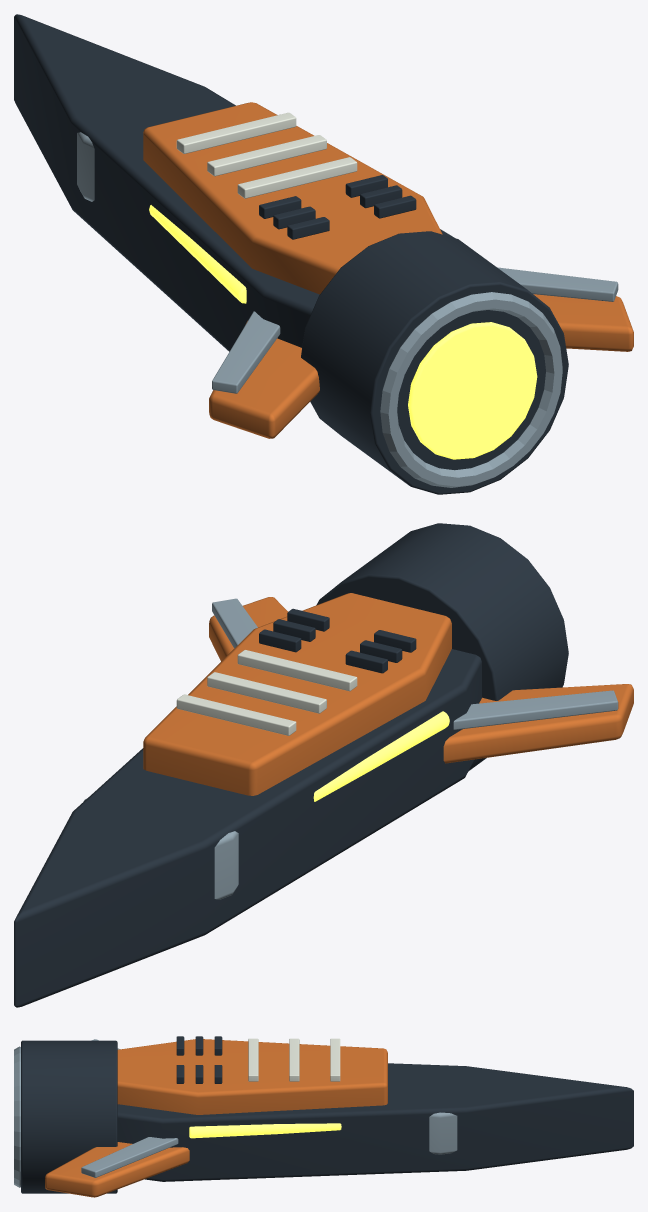
File: kamikaze_agulha.glb
The picture shows the model from 3 angles, top to bottom: view 1: azimuth 30°, elevation 25°; view 2: azimuth 150°, elevation 25°; view 3: azimuth 270°, elevation 25°; orthographic projection. The views are drawn at different scales.
Parts seen in each view (by area): view 1: kamikaze | Graphite chassis, kamikaze | AGULHA | armor, kamikaze | Titanium, kamikaze | AGULHA | energy, kamikaze | Ivory identification; view 2: kamikaze | Graphite chassis, kamikaze | AGULHA | armor, kamikaze | Titanium, kamikaze | Ivory identification, kamikaze | AGULHA | energy; view 3: kamikaze | Graphite chassis, kamikaze | AGULHA | armor, kamikaze | Titanium, kamikaze | AGULHA | energy, kamikaze | Ivory identification.
Boxes of the visible parts, left/top/right/bottom form: kamikaze | Graphite chassis: left=14, top=14, right=568, bottom=494; kamikaze | AGULHA | armor: left=143, top=102, right=633, bottom=438; kamikaze | Titanium: left=77, top=132, right=618, bottom=487; kamikaze | AGULHA | energy: left=149, top=205, right=537, bottom=459; kamikaze | Ivory identification: left=176, top=112, right=357, bottom=198; kamikaze | Graphite chassis: left=14, top=523, right=568, bottom=1007; kamikaze | AGULHA | armor: left=143, top=593, right=633, bottom=795; kamikaze | Titanium: left=83, top=598, right=618, bottom=899; kamikaze | Ivory identification: left=176, top=650, right=357, bottom=735; kamikaze | AGULHA | energy: left=313, top=711, right=449, bottom=801; kamikaze | Graphite chassis: left=21, top=1036, right=633, bottom=1193; kamikaze | AGULHA | armor: left=45, top=1039, right=387, bottom=1197; kamikaze | Titanium: left=14, top=1039, right=457, bottom=1187; kamikaze | AGULHA | energy: left=189, top=1123, right=341, bottom=1138; kamikaze | Ivory identification: left=248, top=1038, right=340, bottom=1081.
Bounding box in the file's own units: 1.09 × 0.528 × 2.12.
